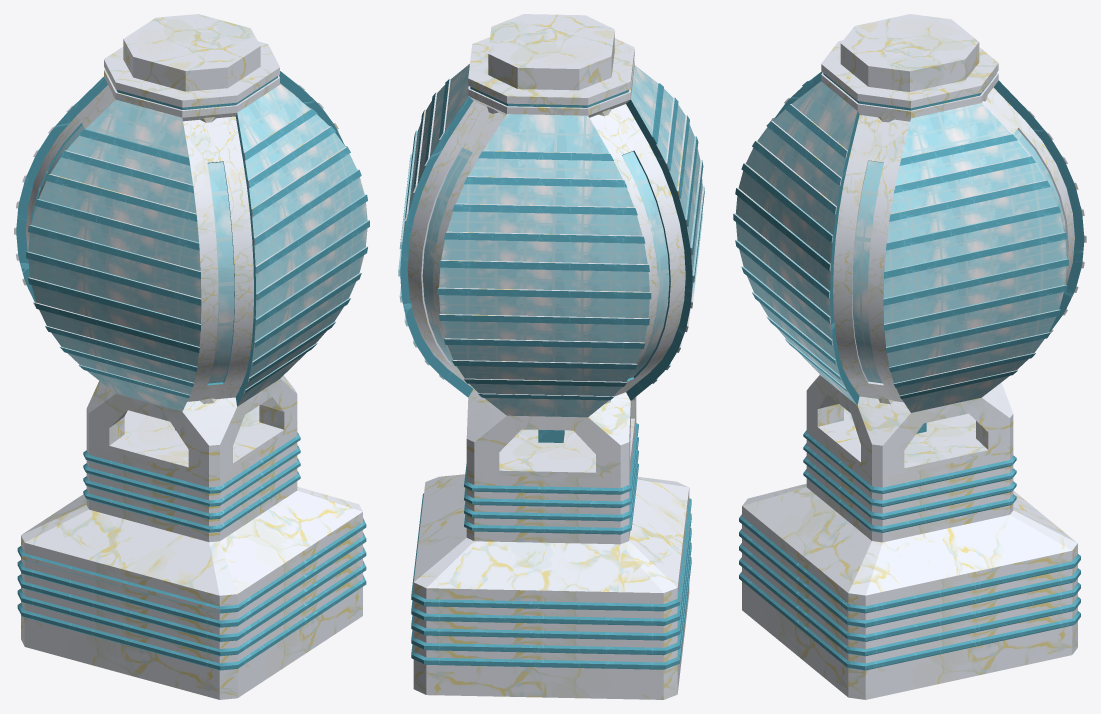
File: Building1.fbx
The picture shows the model from 3 angles, left to right: view 1: azimuth 30°, elevation 25°; view 2: azimuth 150°, elevation 25°; view 3: azimuth 270°, elevation 25°; orthographic projection. The views are drawn at different scales.
Visible parts, largest first — view 1: Building1b; view 2: Building1b; view 3: Building1b.
Boxes of the visible parts, x1,y1,x2,y2 form: Building1b: (14, 14, 369, 699); Building1b: (398, 14, 704, 699); Building1b: (733, 14, 1086, 699).
Bounding box in the file's own units: 327 × 599 × 327.
1 material, 1 textured.
